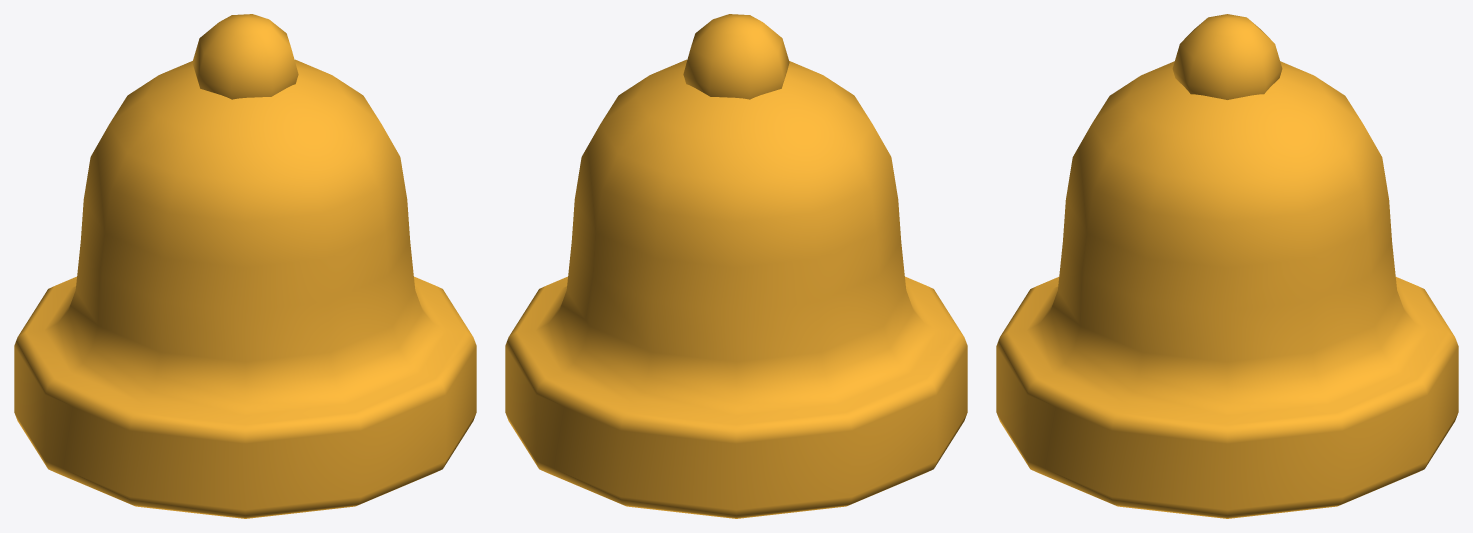
3 renders of one model, left to right at view 1: azimuth 30°, elevation 25°; view 2: azimuth 150°, elevation 25°; view 3: azimuth 270°, elevation 25°, orthographic.
Visible parts, largest first — view 1: model_0.038; view 2: model_0.038; view 3: model_0.038.
Boxes of the visible parts, <box> form: model_0.038: <box>14,14,476,518</box>; model_0.038: <box>505,14,967,518</box>; model_0.038: <box>996,14,1458,518</box>.
Bounding box in the file's own units: 3.35 × 3.89 × 3.35.
